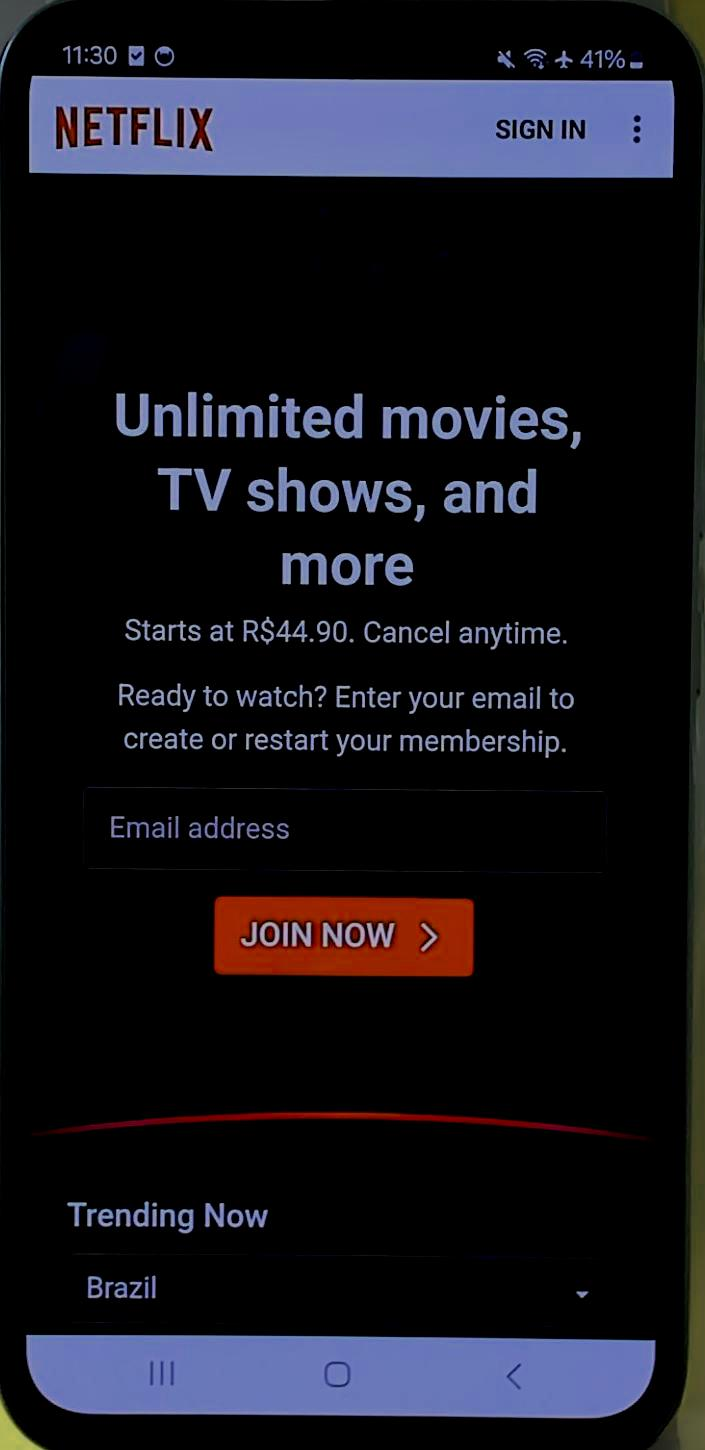CommunBotton: (212, 894, 476, 974), (492, 102, 594, 148), (140, 1340, 186, 1402), (496, 1342, 536, 1398), (316, 1350, 356, 1396)
DropdownList: (64, 1244, 618, 1332)
TextField: (86, 778, 610, 876)
menu: (626, 82, 654, 154)
